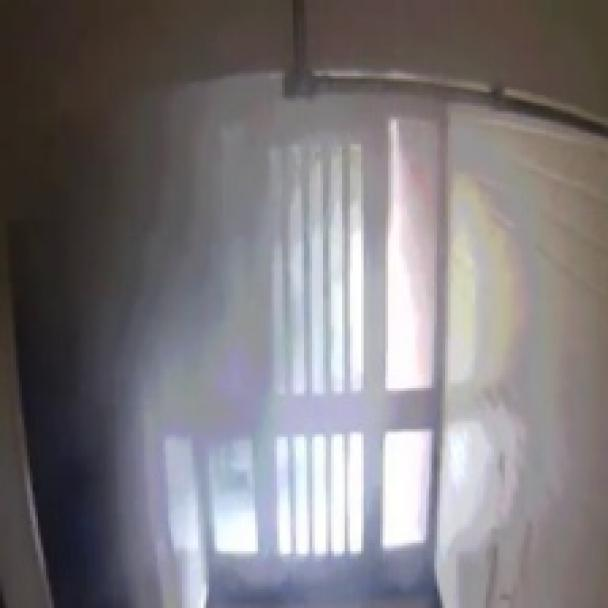smoke: (36, 18, 344, 607)
